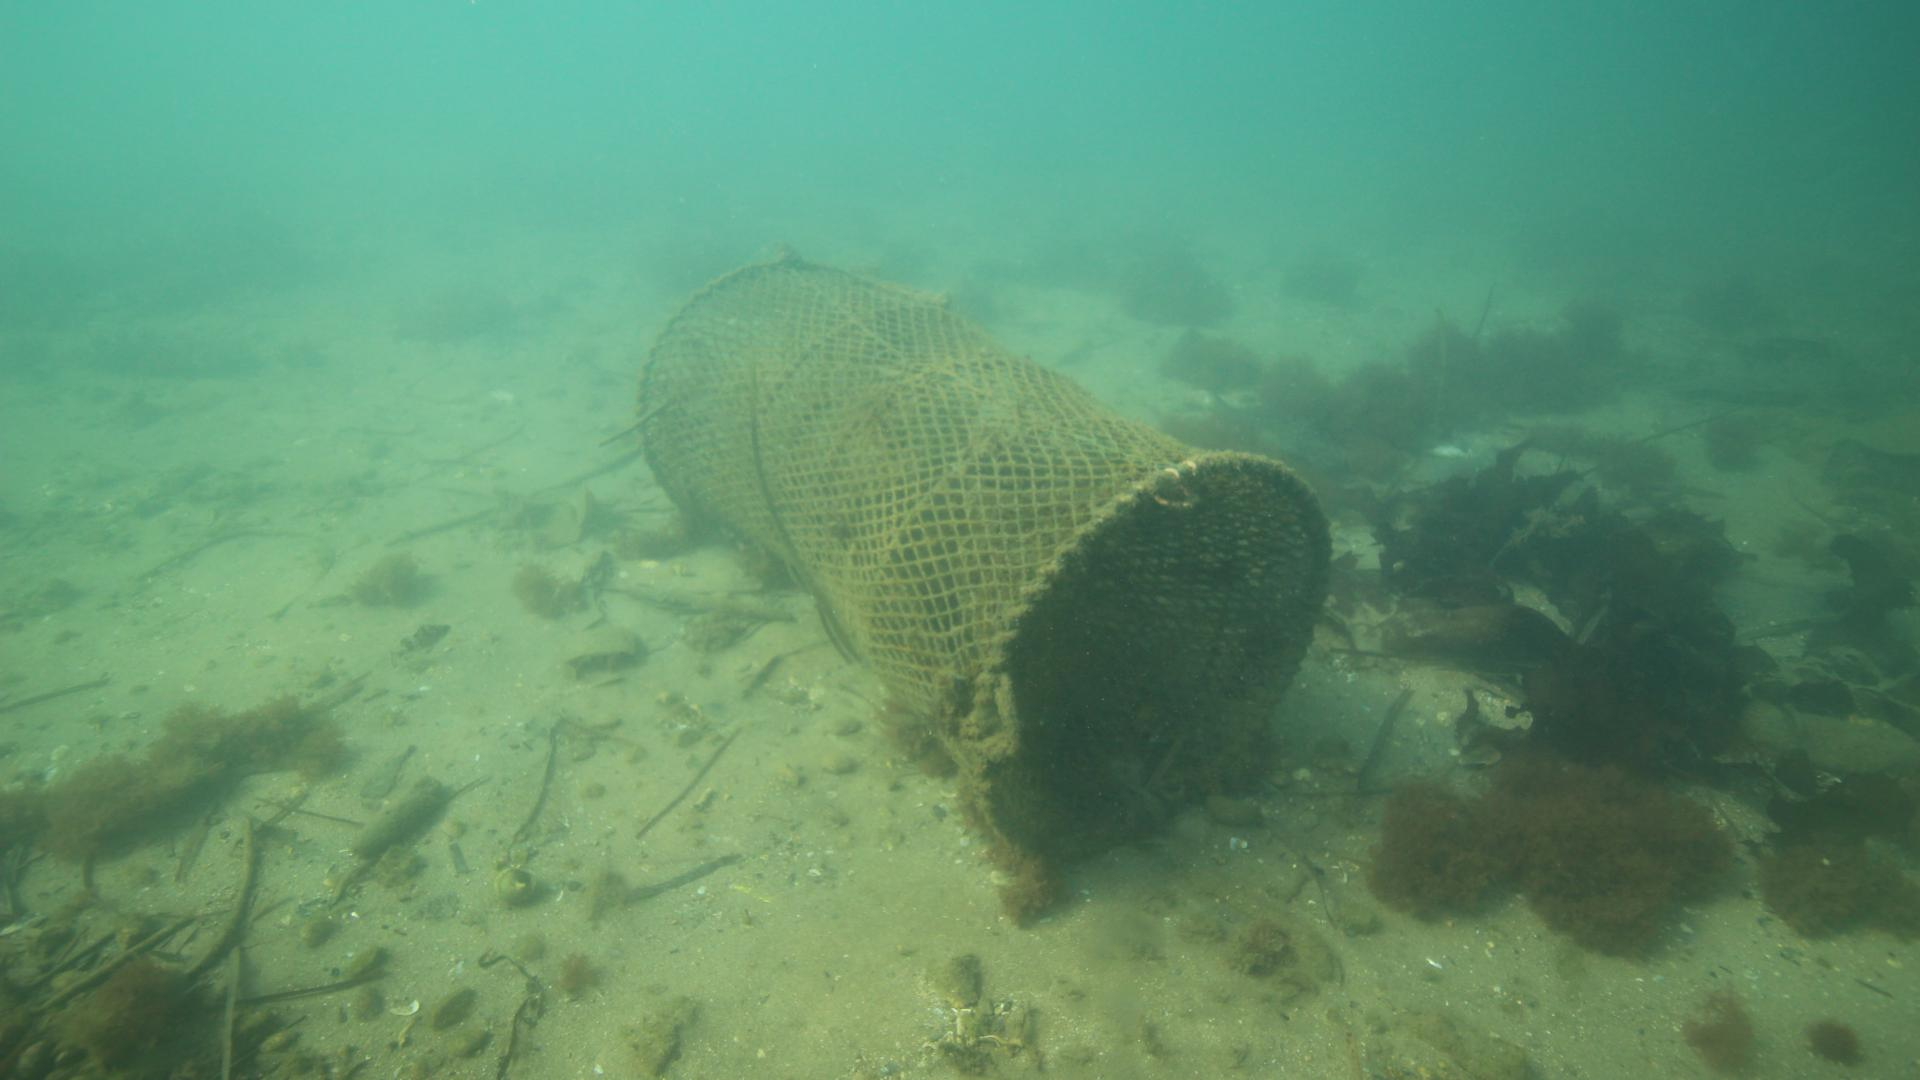spring fish trap: (634, 255, 1332, 872)
